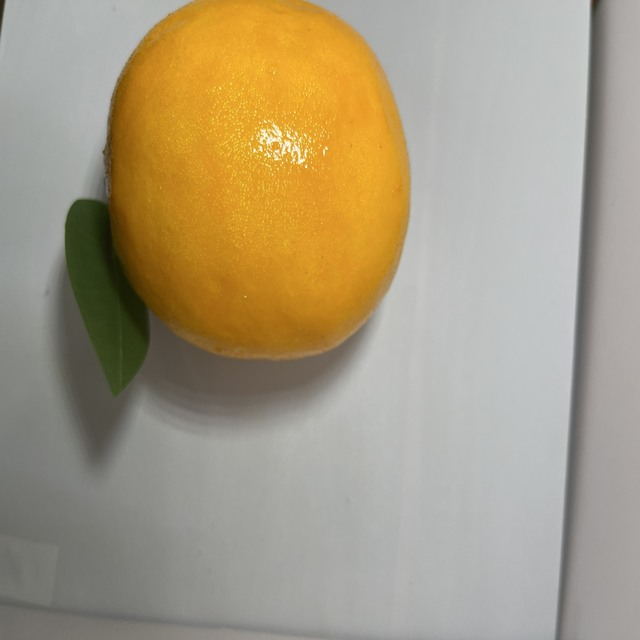Cam vang: (94, 0, 419, 361)
